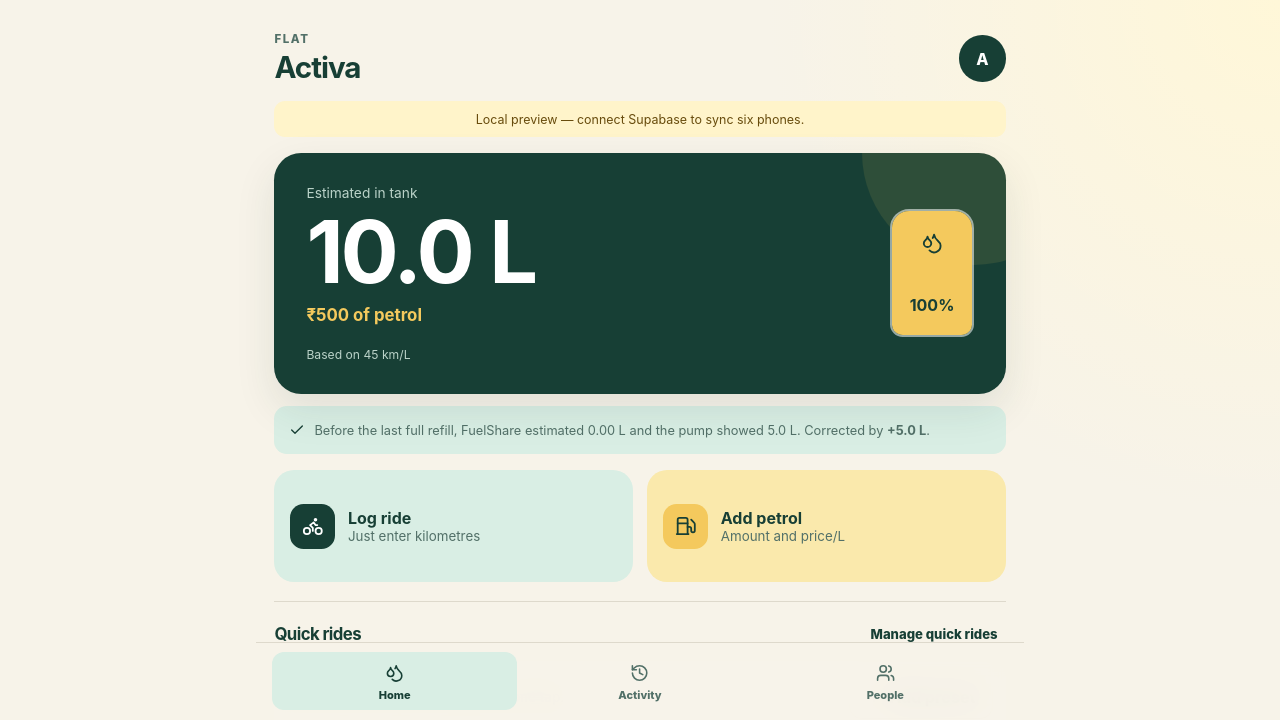
Test: FuelShareApp › shows full-tank adjustment details and status in activity history
Click the button "Activity" at (640, 681), box [517,652,763,710]
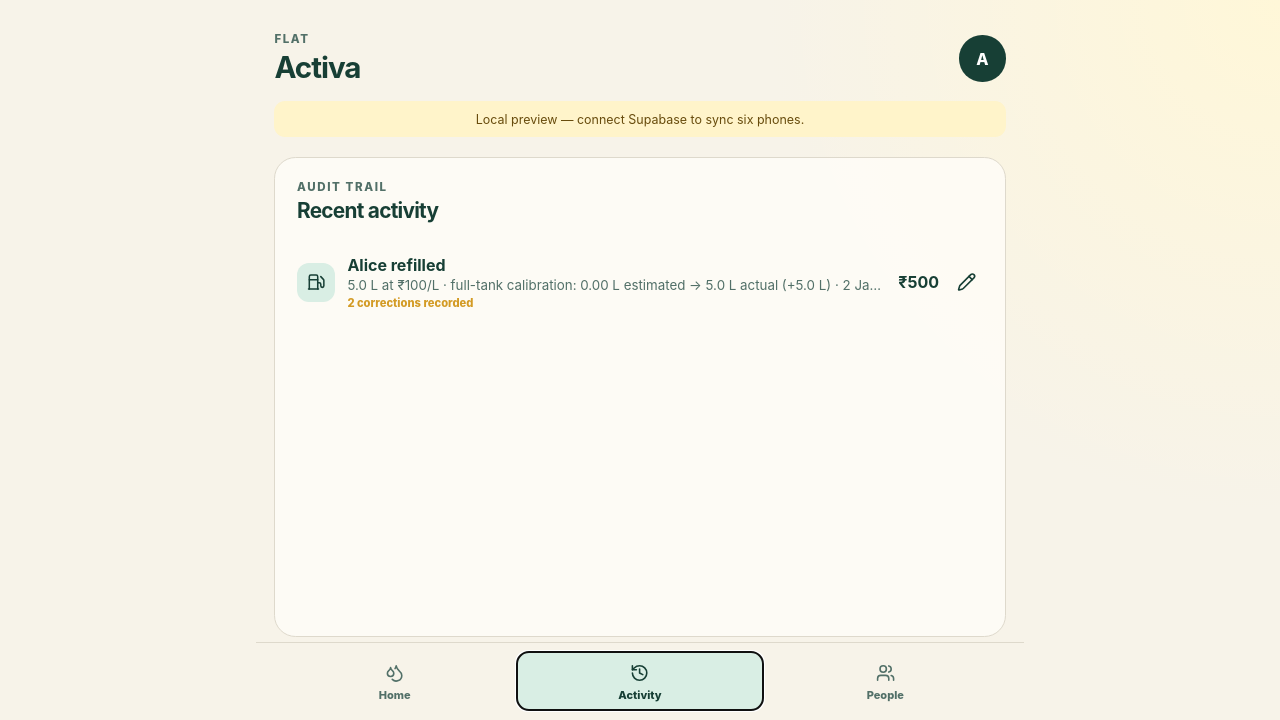
Click the button "2 corrections recorded" at (410, 303), box [347,296,474,310]
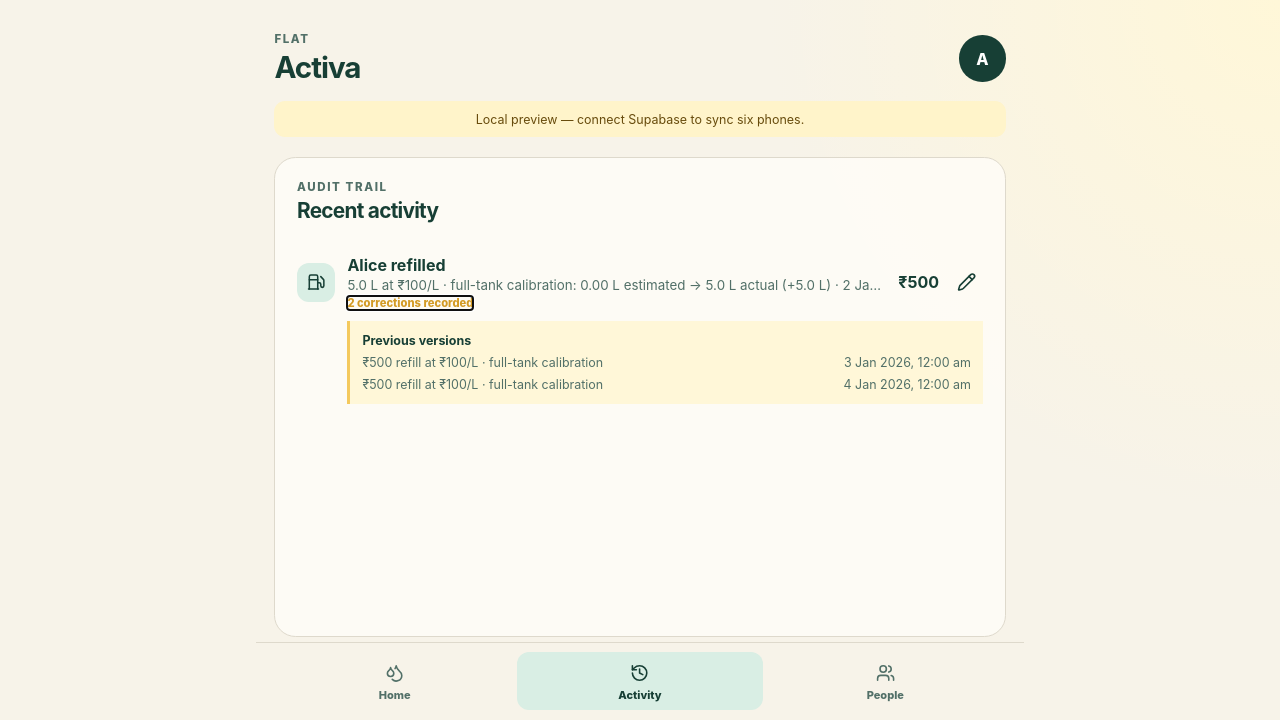
Expected: the text "₹500 refill at ₹100/L · full-tank calibration" is shown 2 times, [362,355,603,370]; [362,377,603,392]
